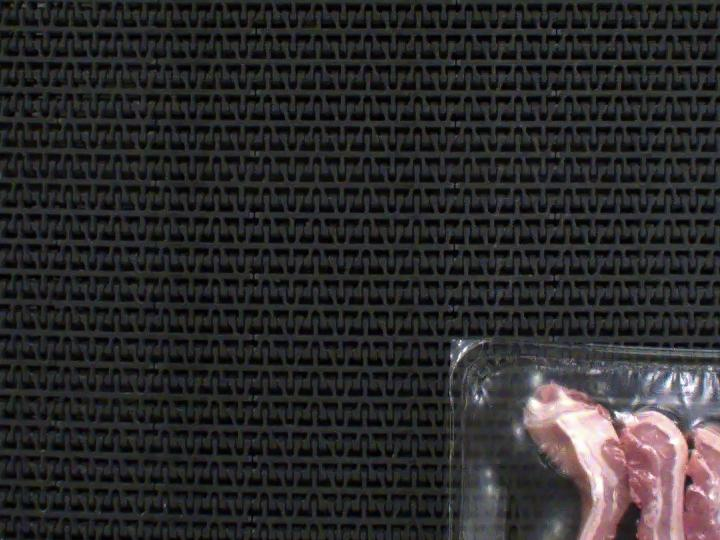unsealed: (467, 352, 720, 540)
